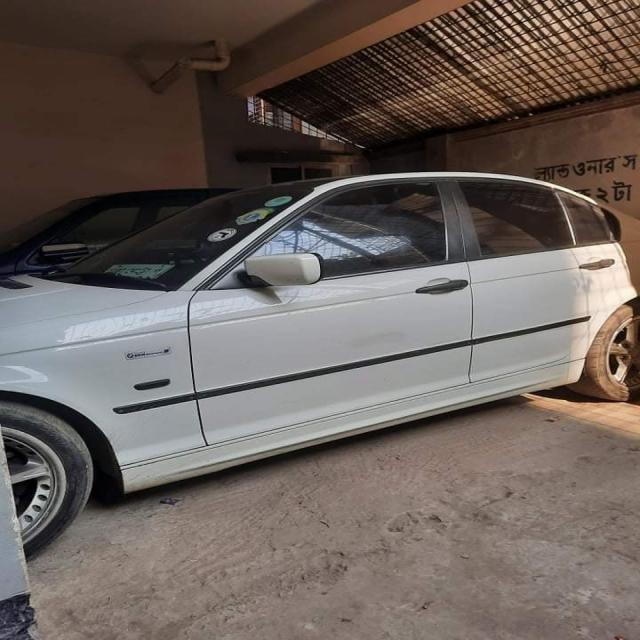white: (0, 120, 640, 525)
